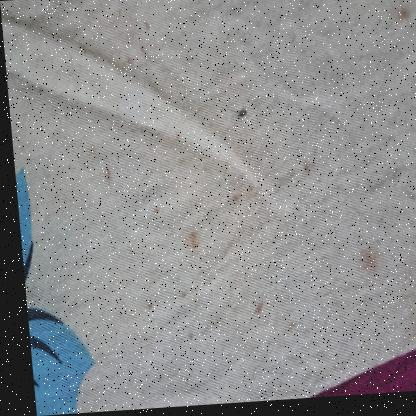spot: (352, 250, 379, 291), (98, 158, 114, 196), (180, 229, 197, 258), (244, 301, 260, 327), (233, 107, 249, 133), (81, 138, 97, 162), (396, 10, 411, 33), (298, 162, 312, 182), (278, 319, 290, 341), (146, 202, 158, 223), (225, 193, 239, 211), (135, 298, 146, 316), (171, 133, 182, 150), (178, 330, 191, 342), (173, 291, 183, 306), (141, 21, 150, 36), (199, 165, 208, 180), (242, 185, 252, 198), (125, 57, 132, 69)
